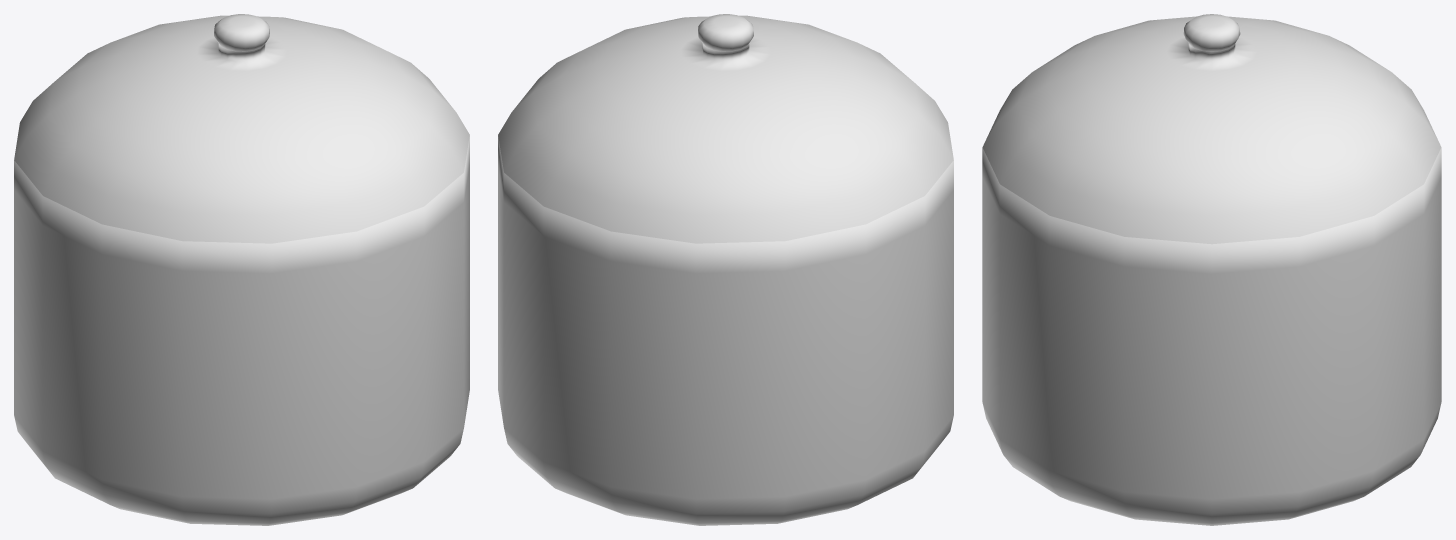
File: pot.fbx
3 renders of one model, left to right at view 1: azimuth 30°, elevation 25°; view 2: azimuth 150°, elevation 25°; view 3: azimuth 270°, elevation 25°, orthographic.
Parts seen in each view (by area): view 1: pot; view 2: pot; view 3: pot.
Part boxes in pixels (x1=…): pot: x1=14, y1=14, x2=469, y2=525; pot: x1=498, y1=14, x2=953, y2=525; pot: x1=982, y1=14, x2=1441, y2=525.
Size of the model in its own units: 6.73 by 6.84 by 6.73.
1 material, 1 textured.
